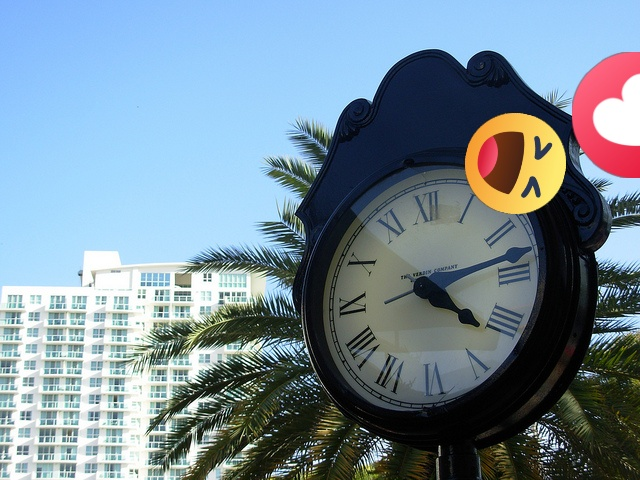haha: (465, 113, 566, 214)
love: (572, 52, 640, 178)
